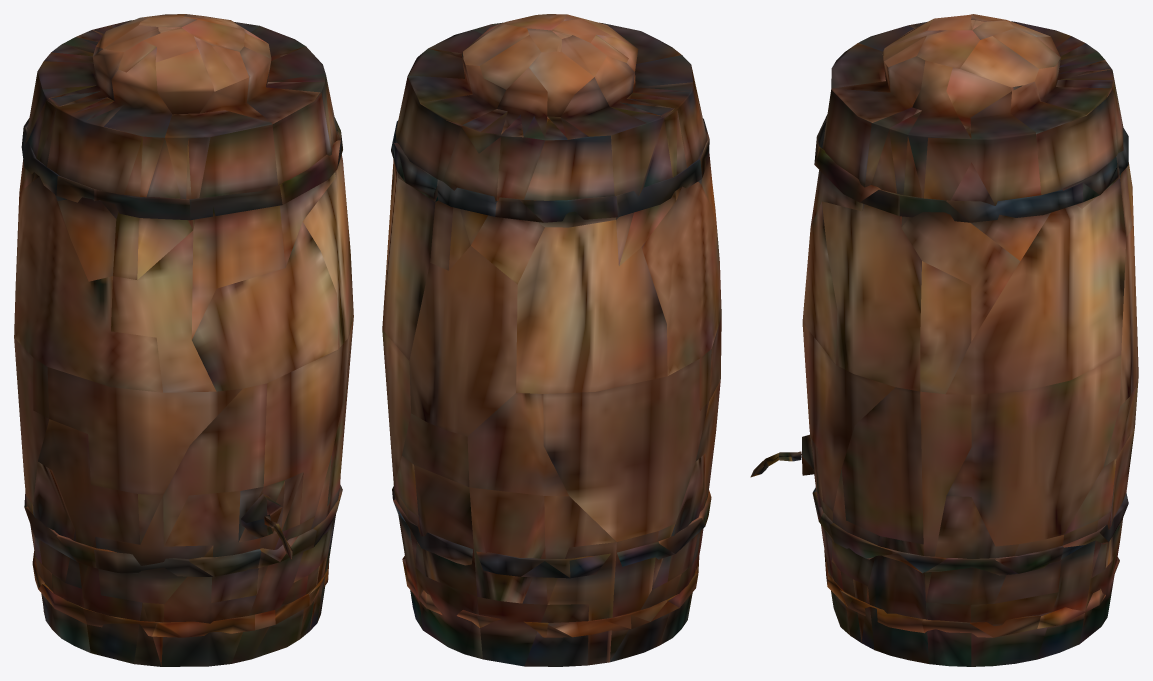
File: barrel.lod2.glb
3 renders of one model, left to right at view 1: azimuth 30°, elevation 25°; view 2: azimuth 150°, elevation 25°; view 3: azimuth 270°, elevation 25°, orthographic.
Size of the model in its own units: 0.4834 by 0.9 by 0.5484.
Materials: 1 (1 with a texture image).
